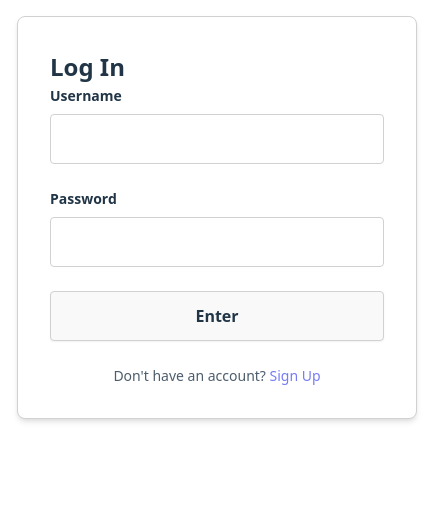
it: LoginForm › shows auth error message when login returns an error
The image size is (435, 511).
Type "alice" into the field labelled "Username" at (217, 139), box [50,114,384,164]
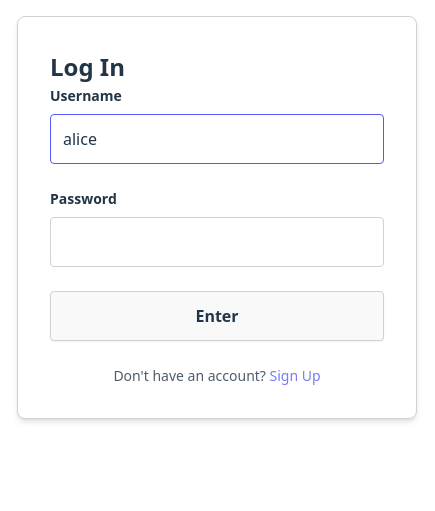
Type "Password1" into the password field labelled "Password" at (217, 242), box [50,217,384,267]
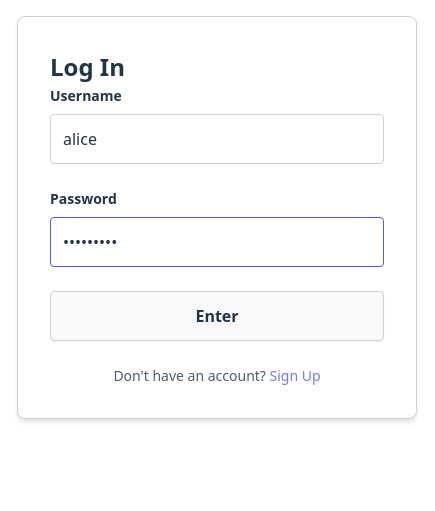
Click the button "Enter" at (217, 316), box [50,291,384,341]
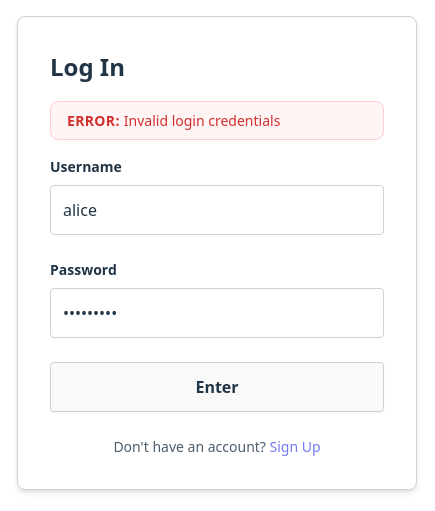
Check: the text "Invalid login credentials" is shown, box [124,110,280,131]
